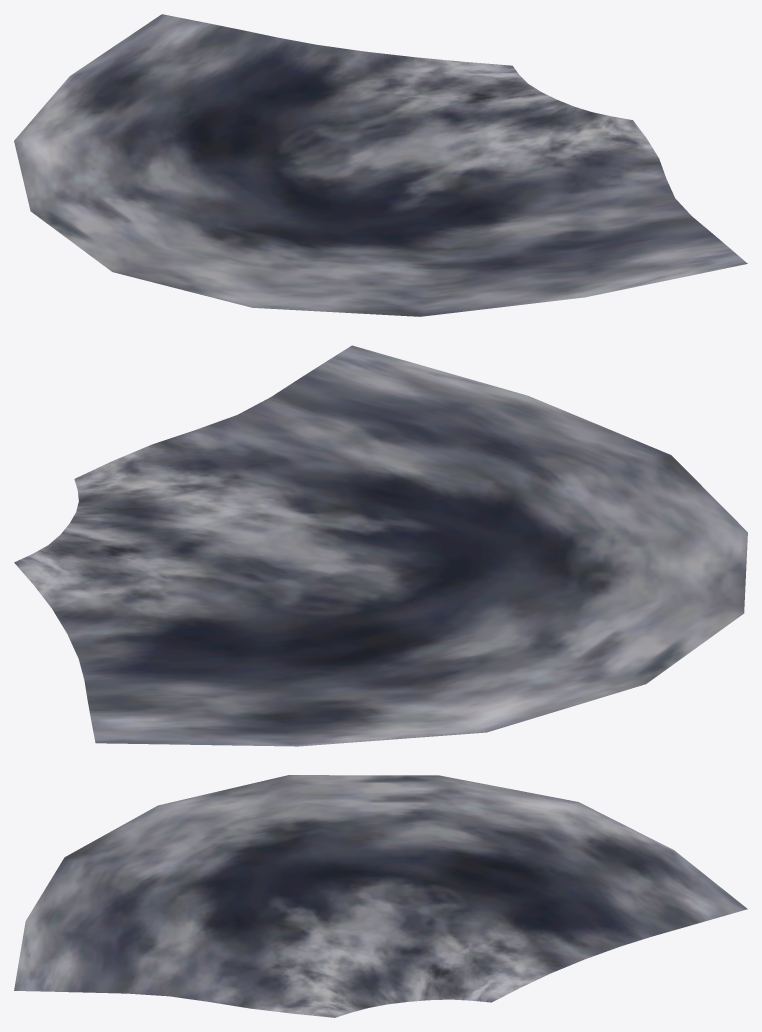
The model's file is CB_NEWPLAYSURFACE_CB_WATERFALLS12.fbx.
3 renders of one model, top to bottom at view 1: azimuth 30°, elevation 25°; view 2: azimuth 150°, elevation 25°; view 3: azimuth 270°, elevation 25°, orthographic. The views are drawn at different scales.
Parts seen in each view (by area): view 1: CB_NEWPLAYSURFACE_CB_WATERFALLS12; view 2: CB_NEWPLAYSURFACE_CB_WATERFALLS12; view 3: CB_NEWPLAYSURFACE_CB_WATERFALLS12.
Part boxes in pixels (x1,y1,x2,y2): CB_NEWPLAYSURFACE_CB_WATERFALLS12: [14, 14, 747, 316]; CB_NEWPLAYSURFACE_CB_WATERFALLS12: [14, 345, 747, 746]; CB_NEWPLAYSURFACE_CB_WATERFALLS12: [14, 775, 747, 1017].
Bounding box in the file's own units: 136688 × 1594 × 174491.
Materials: 1 (1 with a texture image).
